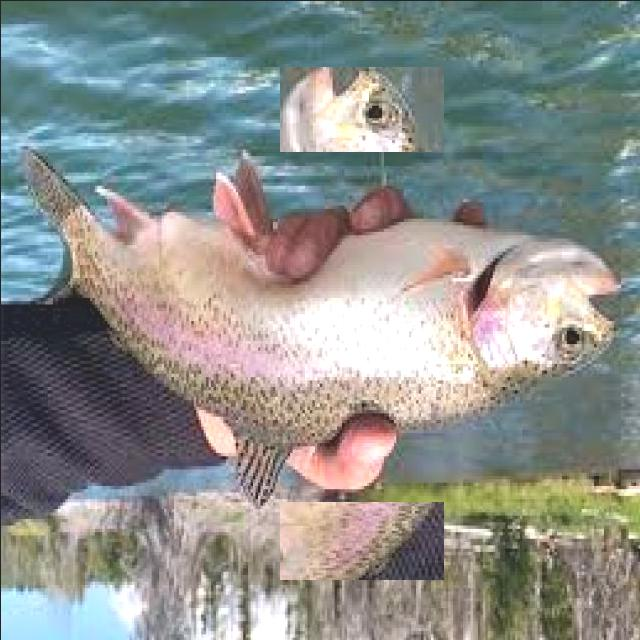EUS Disease: (3, 151, 620, 501), (191, 154, 530, 492)
